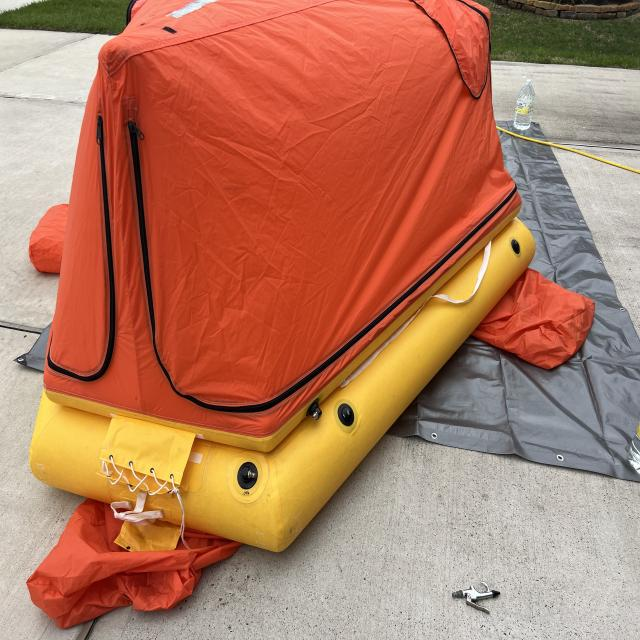Multi-person_life_raft: (25, 1, 594, 628)
